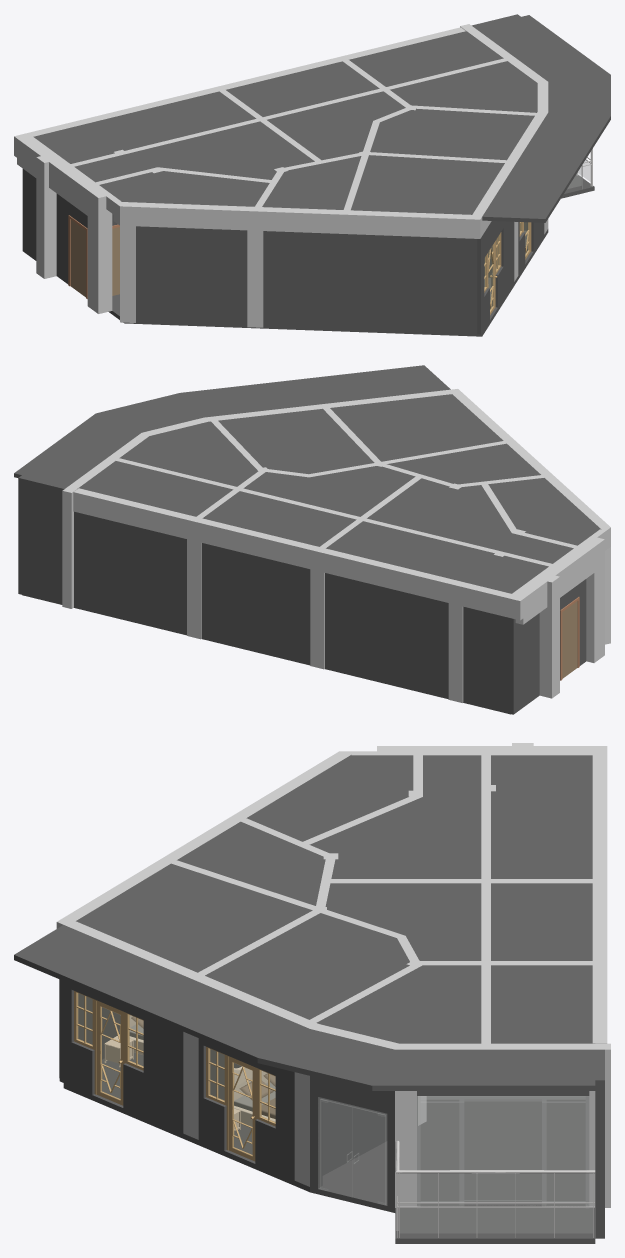
3 renders of one model, top to bottom at view 1: azimuth 30°, elevation 25°; view 2: azimuth 150°, elevation 25°; view 3: azimuth 270°, elevation 25°, orthographic. The views are drawn at different scales.
Parts seen in each view (by area): view 1: product-6bf4bf14-aab7-44f4-96d0-1aec34f05a64-body, product-6bf4bf14-aab7-44f4-96d0-1aec34f14b08-body, product-6bf4bf14-aab7-44f4-96d0-1aec34f17f05-body, product-6bf4bf14-aab7-44f4-96d0-1aec34f61c85-body, product-6bf4bf14-aab7-44f4-96d0-1aec34f640a1-body, product-6bf4bf14-aab7-44f4-96d0-1aec34f61c4f-body, product-6bf4bf14-aab7-44f4-96d0-1aec34f179a3-body, product-6bf4bf14-aab7-44f4-96d0-1aec34f646e2-body, product-6bf4bf14-aab7-44f4-96d0-1aec34f62b31-body, product-6bf4bf14-aab7-44f4-96d0-1aec34f6256f-body, product-6bf4bf14-aab7-44f4-96d0-1aec34f1d7ce-body, product-6bf4bf14-aab7-44f4-96d0-1aec34f6a05b-body (+18 smaller); view 2: product-6bf4bf14-aab7-44f4-96d0-1aec34f05a64-body, product-6edbb55a-52a0-4a49-8fac-9ece61584d9c-body, product-6edbb55a-52a0-4a49-8fac-9ece615f76d0-body, product-6edbb55a-52a0-4a49-8fac-9ece61584ce6-body, product-6edbb55a-52a0-4a49-8fac-9ece61591d7c-body, product-6edbb55a-52a0-4a49-8fac-9ece61584f52-body, product-6edbb55a-52a0-4a49-8fac-9ece615f0e51-body, product-6edbb55a-52a0-4a49-8fac-9ece615f0e66-body, product-6edbb55a-52a0-4a49-8fac-9ece615f0e49-body, product-6bf4bf14-aab7-44f4-96d0-1aec34f646e2-body, product-6bf4bf14-aab7-44f4-96d0-1aec34f640a1-body, product-6bf4bf14-aab7-44f4-96d0-1aec34f3d5e8-body (+18 smaller); view 3: product-6bf4bf14-aab7-44f4-96d0-1aec34f05a64-body, product-6bf4bf14-aab7-44f4-96d0-1aec34f1d7ce-body, product-6bf4bf14-aab7-44f4-96d0-1aec34f1e831-body, product-6bf4bf14-aab7-44f4-96d0-1aec34f179a3-body, product-6edbb55a-52a0-4a49-8fac-9ece61591d51-body, product-6bf4bf14-aab7-44f4-96d0-1aec34f1e85d-body, product-6bf4bf14-aab7-44f4-96d0-1aec34f14015-body, product-6bf4bf14-aab7-44f4-96d0-1aec34f1eb4b-body, product-6bf4bf14-aab7-44f4-96d0-1aec34f1ebbe-body, product-6bf4bf14-aab7-44f4-96d0-1aec34f65295-body, product-6bf4bf14-aab7-44f4-96d0-1aec34f6ea34-body, product-6bf4bf14-aab7-44f4-96d0-1aec34f62292-body (+25 smaller).
Boxes of the visible parts, <box> form: product-6bf4bf14-aab7-44f4-96d0-1aec34f05a64-body: <box>33,15,610,222</box>; product-6bf4bf14-aab7-44f4-96d0-1aec34f14b08-body: <box>263,231,477,335</box>; product-6bf4bf14-aab7-44f4-96d0-1aec34f17f05-body: <box>136,226,247,326</box>; product-6bf4bf14-aab7-44f4-96d0-1aec34f61c85-body: <box>263,207,481,238</box>; product-6bf4bf14-aab7-44f4-96d0-1aec34f640a1-body: <box>87,187,112,313</box>; product-6bf4bf14-aab7-44f4-96d0-1aec34f61c4f-body: <box>113,201,247,230</box>; product-6bf4bf14-aab7-44f4-96d0-1aec34f179a3-body: <box>477,221,514,334</box>; product-6bf4bf14-aab7-44f4-96d0-1aec34f646e2-body: <box>36,152,62,278</box>; product-6bf4bf14-aab7-44f4-96d0-1aec34f62b31-body: <box>247,206,263,327</box>; product-6bf4bf14-aab7-44f4-96d0-1aec34f6256f-body: <box>120,202,136,322</box>; product-6bf4bf14-aab7-44f4-96d0-1aec34f1d7ce-body: <box>108,175,594,336</box>; product-6bf4bf14-aab7-44f4-96d0-1aec34f6a05b-body: <box>125,58,506,153</box>; product-6bf4bf14-aab7-44f4-96d0-1aec34f05a64-body: <box>14,365,600,593</box>; product-6edbb55a-52a0-4a49-8fac-9ece61584d9c-body: <box>325,573,448,698</box>; product-6edbb55a-52a0-4a49-8fac-9ece615f76d0-body: <box>74,511,186,634</box>; product-6edbb55a-52a0-4a49-8fac-9ece61584ce6-body: <box>201,543,310,664</box>; product-6edbb55a-52a0-4a49-8fac-9ece61591d7c-body: <box>18,475,67,604</box>; product-6edbb55a-52a0-4a49-8fac-9ece61584f52-body: <box>463,606,516,714</box>; product-6edbb55a-52a0-4a49-8fac-9ece615f0e51-body: <box>324,549,453,602</box>; product-6edbb55a-52a0-4a49-8fac-9ece615f0e66-body: <box>73,488,191,538</box>; product-6edbb55a-52a0-4a49-8fac-9ece615f0e49-body: <box>201,519,314,568</box>; product-6bf4bf14-aab7-44f4-96d0-1aec34f646e2-body: <box>534,572,559,698</box>; product-6bf4bf14-aab7-44f4-96d0-1aec34f640a1-body: <box>580,536,604,662</box>; product-6bf4bf14-aab7-44f4-96d0-1aec34f3d5e8-body: <box>517,613,539,711</box>; product-6bf4bf14-aab7-44f4-96d0-1aec34f05a64-body: <box>14,755,595,1090</box>; product-6bf4bf14-aab7-44f4-96d0-1aec34f1d7ce-body: <box>63,1052,595,1243</box>; product-6bf4bf14-aab7-44f4-96d0-1aec34f1e831-body: <box>417,1096,589,1206</box>; product-6bf4bf14-aab7-44f4-96d0-1aec34f179a3-body: <box>59,979,183,1133</box>; product-6edbb55a-52a0-4a49-8fac-9ece61591d51-body: <box>395,1140,595,1237</box>; product-6bf4bf14-aab7-44f4-96d0-1aec34f1e85d-body: <box>318,1097,386,1205</box>; product-6bf4bf14-aab7-44f4-96d0-1aec34f14015-body: <box>198,1038,294,1180</box>; product-6bf4bf14-aab7-44f4-96d0-1aec34f1eb4b-body: <box>74,991,143,1105</box>; product-6bf4bf14-aab7-44f4-96d0-1aec34f1ebbe-body: <box>206,1046,275,1161</box>; product-6bf4bf14-aab7-44f4-96d0-1aec34f65295-body: <box>310,1076,394,1207</box>; product-6bf4bf14-aab7-44f4-96d0-1aec34f6ea34-body: <box>322,1098,387,1175</box>; product-6bf4bf14-aab7-44f4-96d0-1aec34f62292-body: <box>395,1043,416,1207</box>.
Bounding box in the file's own units: 16.73 × 3.72 × 12.31.
